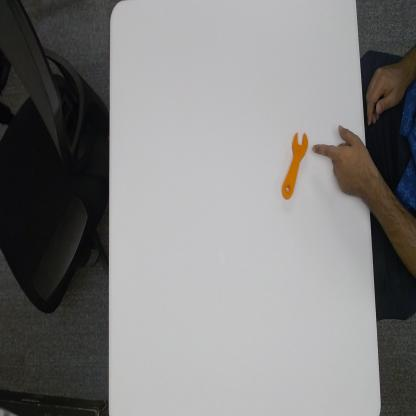Hand: (307, 120, 377, 201)
Screwdriver: (281, 129, 309, 200)
